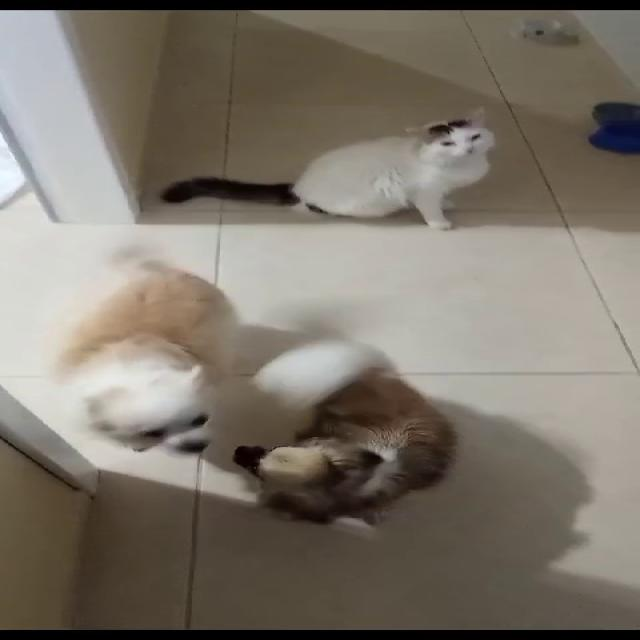Pedrita: (236, 293, 478, 528)
Simba: (239, 76, 566, 255)
Theo: (239, 76, 566, 255), (44, 232, 244, 466)
